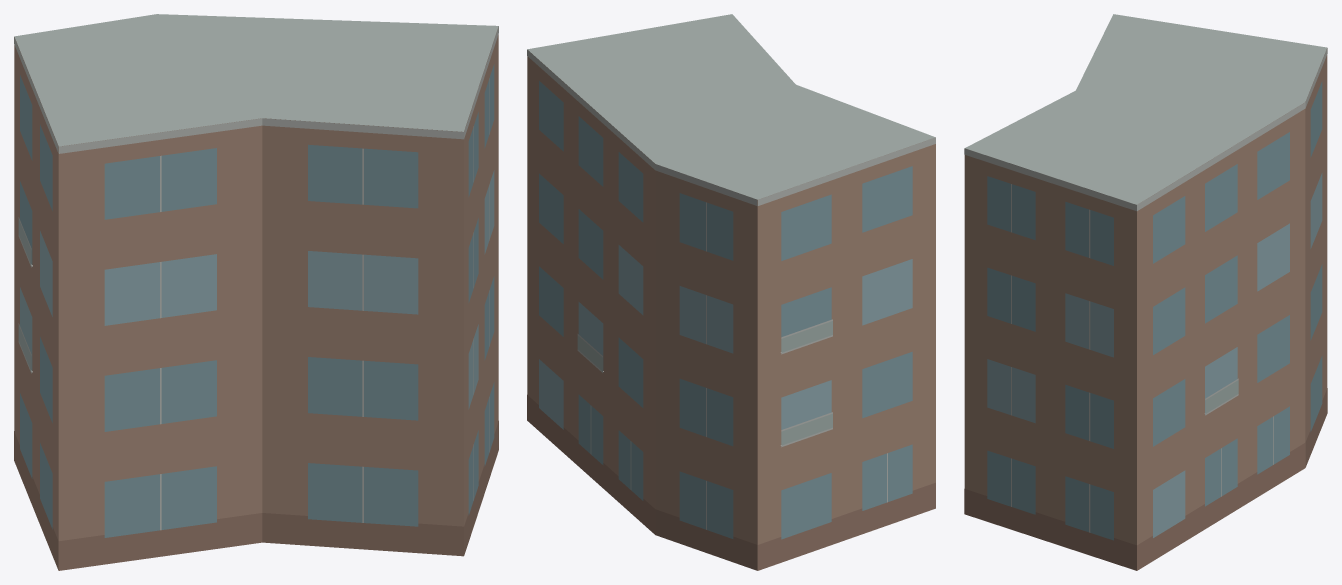
Rendered from survey-upis-32730391.glb.
3 views of the same model, side by side, from view 1: azimuth 30°, elevation 25°; view 2: azimuth 150°, elevation 25°; view 3: azimuth 270°, elevation 25° (orthographic). The views are drawn at different scales.
Parts seen in each view (by area): view 1: survey-upis-32730391.tmp; view 2: survey-upis-32730391.tmp; view 3: survey-upis-32730391.tmp.
Part boxes in pixels (x1=…): survey-upis-32730391.tmp: x1=14, y1=14, x2=498, y2=570; survey-upis-32730391.tmp: x1=527, y1=14, x2=935, y2=570; survey-upis-32730391.tmp: x1=964, y1=14, x2=1327, y2=570.
Size of the model in its own units: 15.56 by 13.9 by 12.5.
